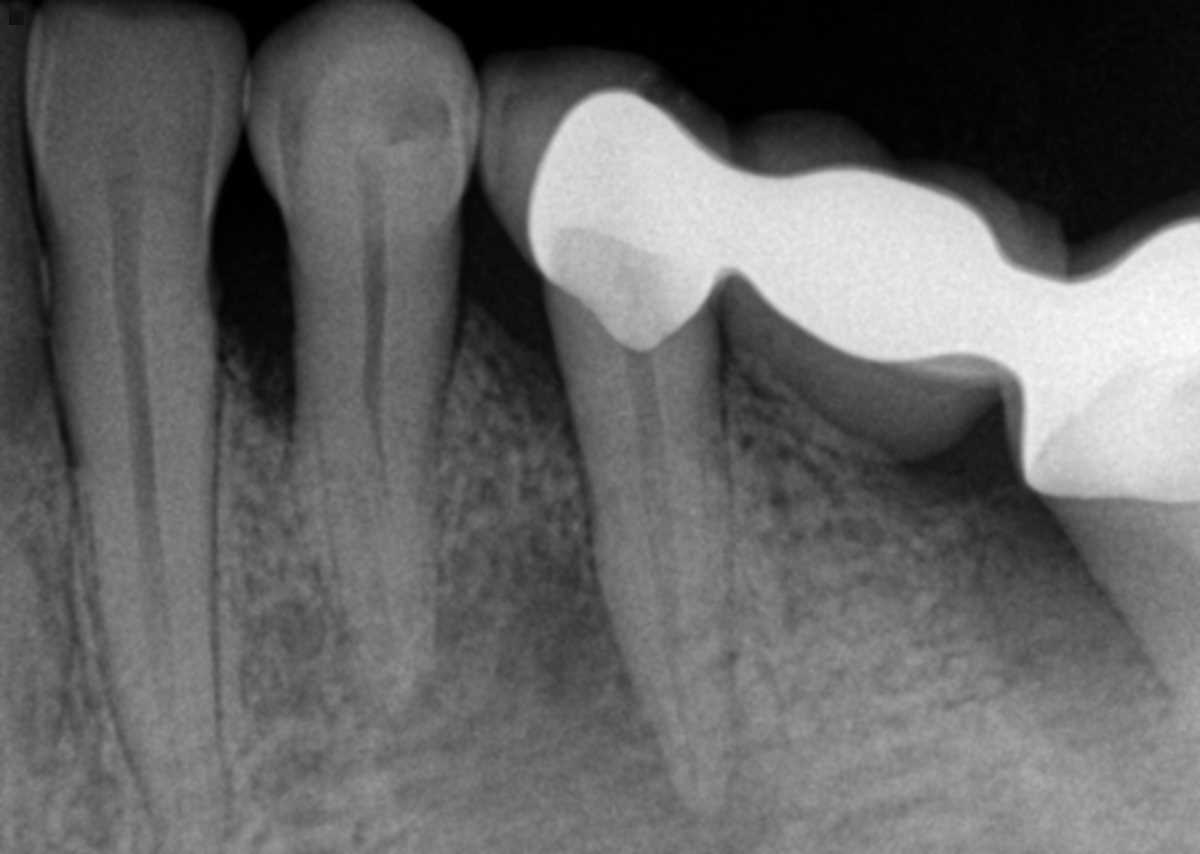Apical Lesion: (506, 538, 786, 850)
Main Canal: (625, 352, 699, 801), (109, 254, 177, 734), (360, 288, 385, 515)
Main Root: (49, 244, 234, 854), (561, 318, 734, 816), (290, 282, 464, 725)
